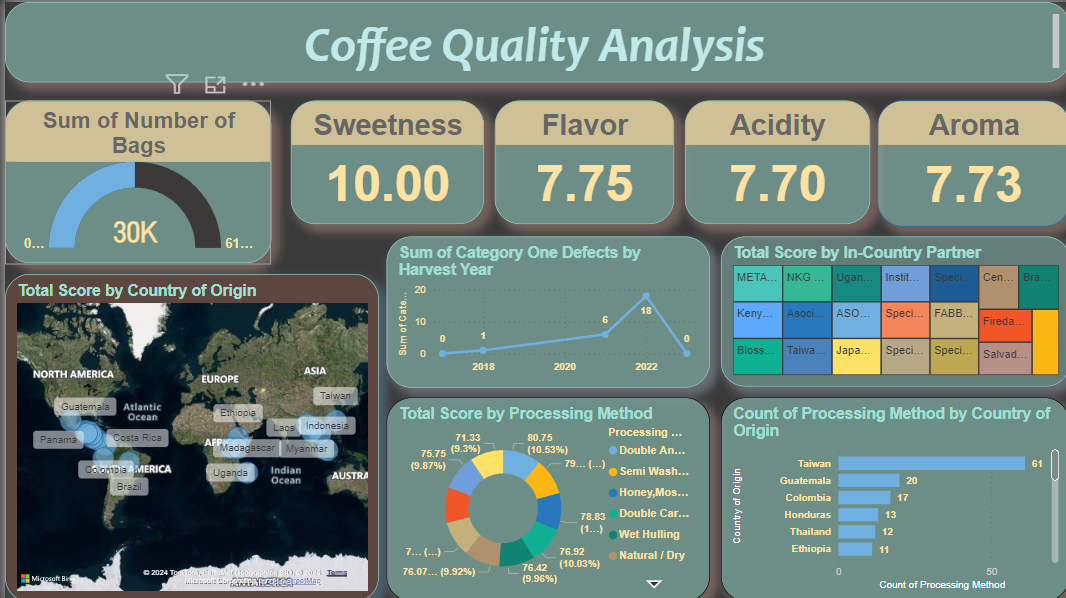

This screenshot's page, from the dashboard's own definition file:
{"tool":"powerbi","page":{"name":"Page 3","canvas":[1280,720],"ordinal":2},"visuals":[{"type":"card","title":"Aroma","fields":{"Values":["df_arabica_clean.Aroma Score"]},"box":[1048.5,119,231,151.6],"z":0},{"type":"card","title":"Acidity","fields":{"Values":["df_arabica_clean.Acidity Score"]},"box":[816.1,119,222.5,148.8],"z":1000},{"type":"card","title":"Flavor","fields":{"Values":["df_arabica_clean.Flavor Score"]},"box":[588,119,215.4,148.8],"z":2000},{"type":"card","title":"Sweetness","fields":{"Values":["df_arabica_clean.Sweetness Score"]},"box":[342.9,119,232.4,148.8],"z":3000},{"type":"clusteredBarChart","fields":{"Category":["df_arabica_clean.Country of Origin"],"Y":["CountNonNull(df_arabica_clean.Processing Method)"]},"box":[860.7,474.7,419,245.2],"z":4000},{"type":"gauge","fields":{"Y":["Sum(df_arabica_clean.Number of Bags)"]},"box":[0,119,320.2,195.5],"z":5000},{"type":"textbox","box":[0,0,1279.4,96.3],"z":6000},{"type":"donutChart","fields":{"Y":["df_arabica_clean.Total Score"],"Category":["df_arabica_clean.Processing Method"]},"box":[459.1,474.7,388.2,245.1],"z":7000},{"type":"map","fields":{"Category":["df_arabica_clean.Country of Origin"],"Size":["df_arabica_clean.Total Score"]},"box":[0,325.9,449.2,393.9],"z":8000},{"type":"lineChart","fields":{"Category":["df_arabica_clean.Harvest Year"],"Y":["Sum(df_arabica_clean.Category One Defects)"]},"box":[459.1,282,388.2,181.4],"z":9000},{"type":"treemap","fields":{"Values":["df_arabica_clean.Total Score"],"Details":["df_arabica_clean.In-Country Partner"]},"box":[860.1,282,419.4,179.9],"z":10000}]}

Visuals, with their boxes in screenshot pixels (x1, y1, x2, y2), scaled from the page's 1280x720 canvas onto the 1066x598 screenshot:
"Aroma" card: l=873, t=99, r=1065, b=225
"Acidity" card: l=680, t=99, r=865, b=222
"Flavor" card: l=490, t=99, r=669, b=222
"Sweetness" card: l=286, t=99, r=479, b=222
clusteredBarChart - df_arabica_clean.Country of Origin x CountNonNull(df_arabica_clean.Processing Method): l=717, t=394, r=1065, b=597
gauge - Sum(df_arabica_clean.Number of Bags): l=0, t=99, r=267, b=261
textbox: l=0, t=0, r=1065, b=80
donutChart - df_arabica_clean.Total Score x df_arabica_clean.Processing Method: l=382, t=394, r=706, b=597
map - df_arabica_clean.Country of Origin x df_arabica_clean.Total Score: l=0, t=271, r=374, b=597
lineChart - df_arabica_clean.Harvest Year x Sum(df_arabica_clean.Category One Defects): l=382, t=234, r=706, b=385
treemap - df_arabica_clean.Total Score x df_arabica_clean.In-Country Partner: l=716, t=234, r=1065, b=384
